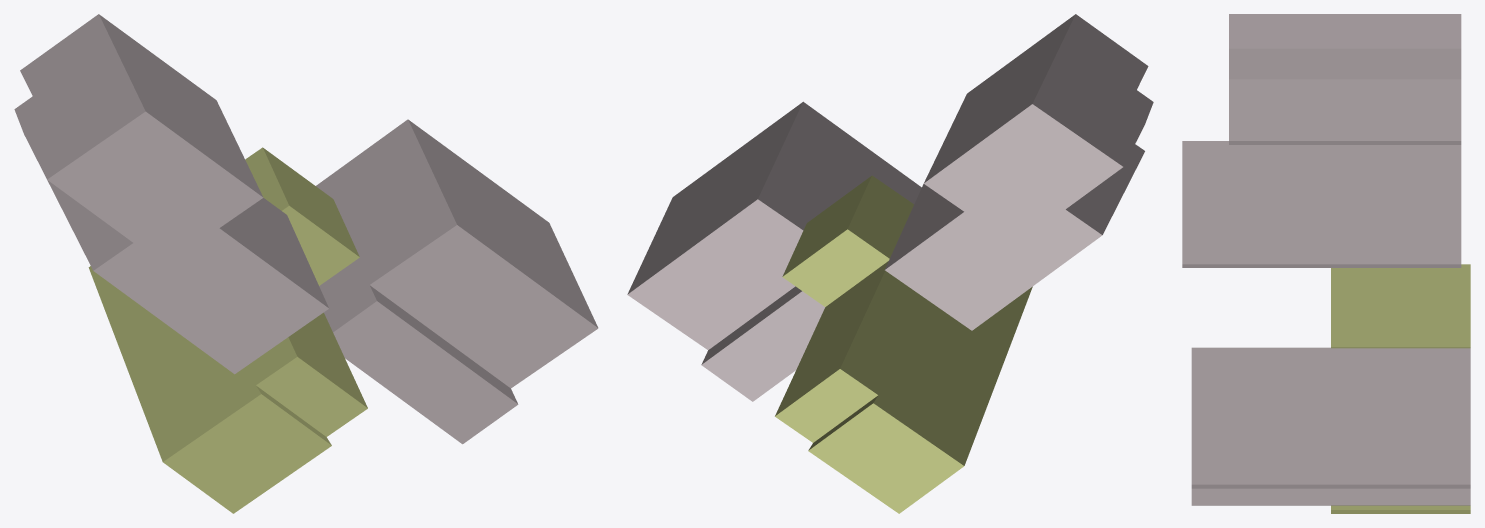
The picture shows the model from 3 angles, left to right: view 1: azimuth 30°, elevation 25°; view 2: azimuth 150°, elevation 25°; view 3: azimuth 270°, elevation 25°; orthographic projection. The views are drawn at different scales.
Parts seen in each view (by area): view 1: 0_3_0_1_1_2_1_3_3; view 2: 0_3_0_1_1_2_1_3_3; view 3: 0_3_0_1_1_2_1_3_3.
Part boxes in pixels (x1=…): 0_3_0_1_1_2_1_3_3: x1=14, y1=14, x2=598, y2=513; 0_3_0_1_1_2_1_3_3: x1=627, y1=14, x2=1153, y2=513; 0_3_0_1_1_2_1_3_3: x1=1182, y1=14, x2=1470, y2=513.
Bounding box in the file's own units: 32.89 × 32.9 × 18.6.
